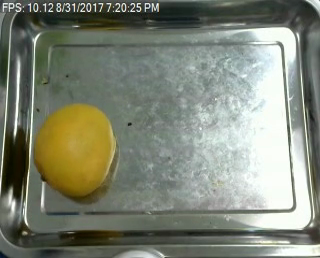Mango: (35, 103, 118, 198)
